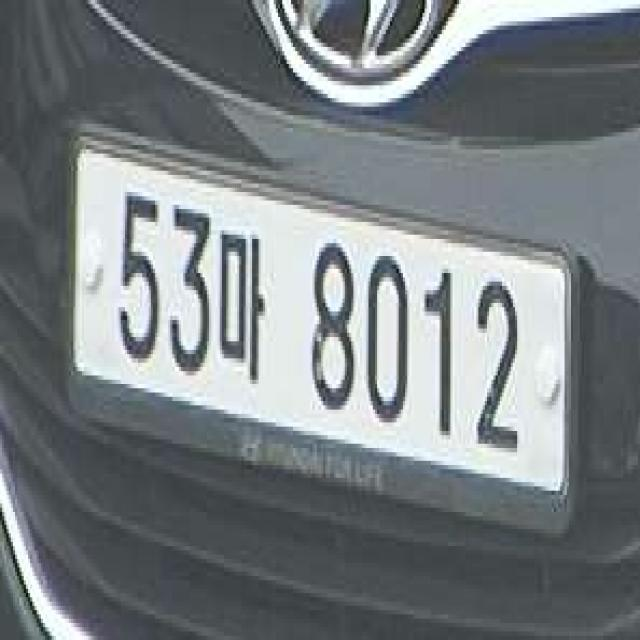0: (360, 235, 416, 440)
1: (398, 239, 468, 461)
2: (463, 235, 528, 478)
3: (164, 184, 215, 388)
5: (116, 179, 166, 384)
8: (295, 222, 362, 422)
license_plate: (58, 102, 582, 555)
ma: (213, 213, 265, 384)
